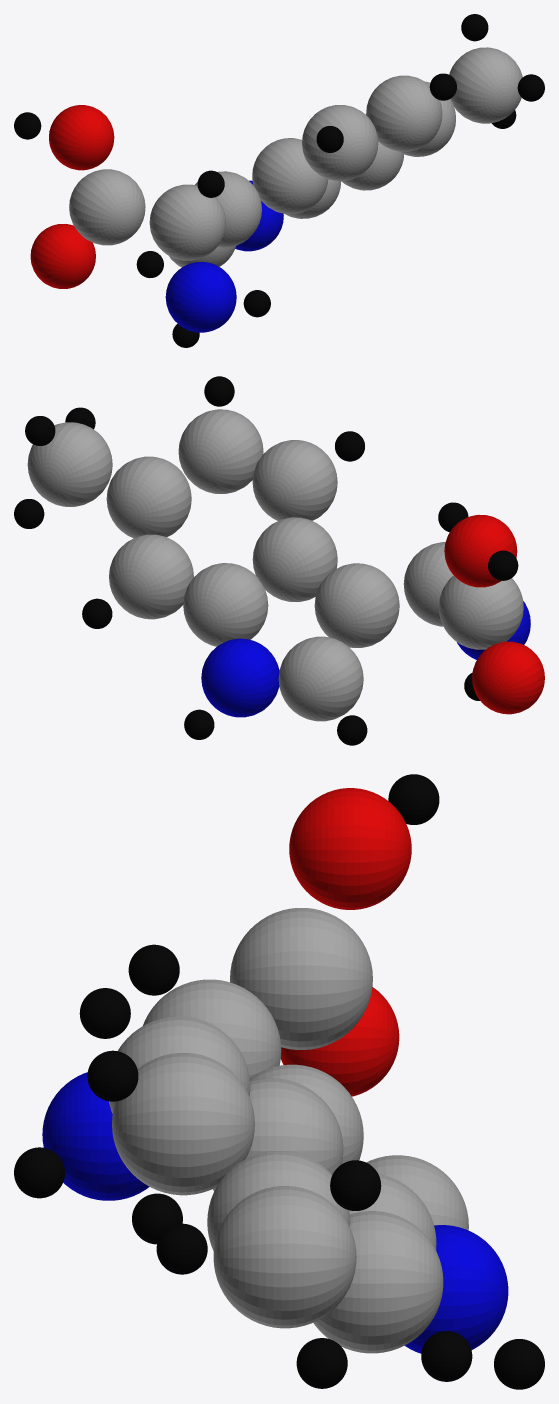
Rendered from Melatonin.glb.
3 renders of one model, top to bottom at view 1: azimuth 30°, elevation 25°; view 2: azimuth 150°, elevation 25°; view 3: azimuth 270°, elevation 25°, orthographic. The views are drawn at different scales.
Visible parts, largest first — view 1: world; view 2: world; view 3: world.
Part boxes in pixels (x1,y1,x2,y2): world: (14,14,544,347); world: (14,376,544,745); world: (14,774,544,1389).
Bounding box in the file's own units: 10.05 × 4.5 × 5.2.
